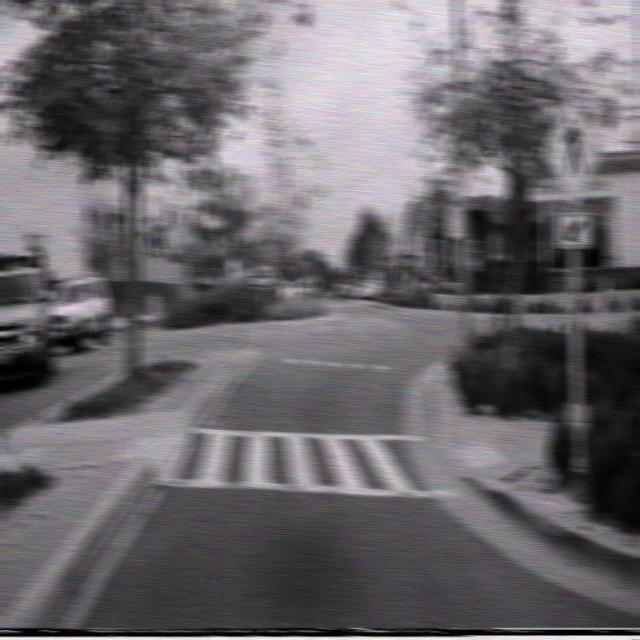pedestrianCrossing: (541, 90, 603, 210), (389, 232, 407, 258)
yield: (444, 152, 477, 202), (225, 171, 252, 212)
